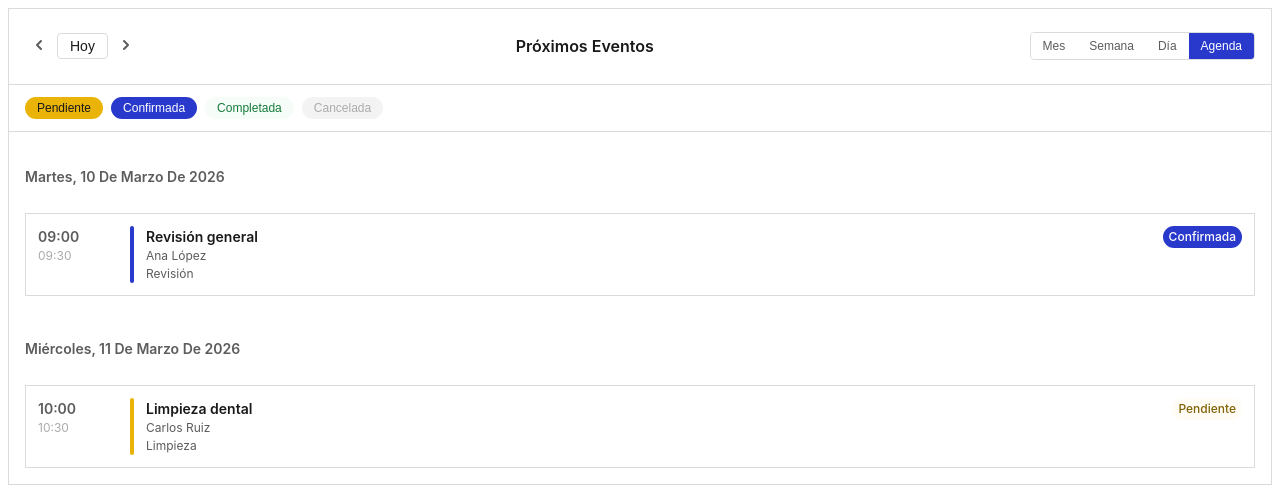
Test: Calendar › AgendaView › unchecking a status hides events of that status
This screenshot has width=1280, height=502.
Expected: the text "Limpieza dental" is shown, [146, 400, 252, 416]
Click the checkbox labelled "Pendiente" at (64, 108), box [25, 96, 103, 118]
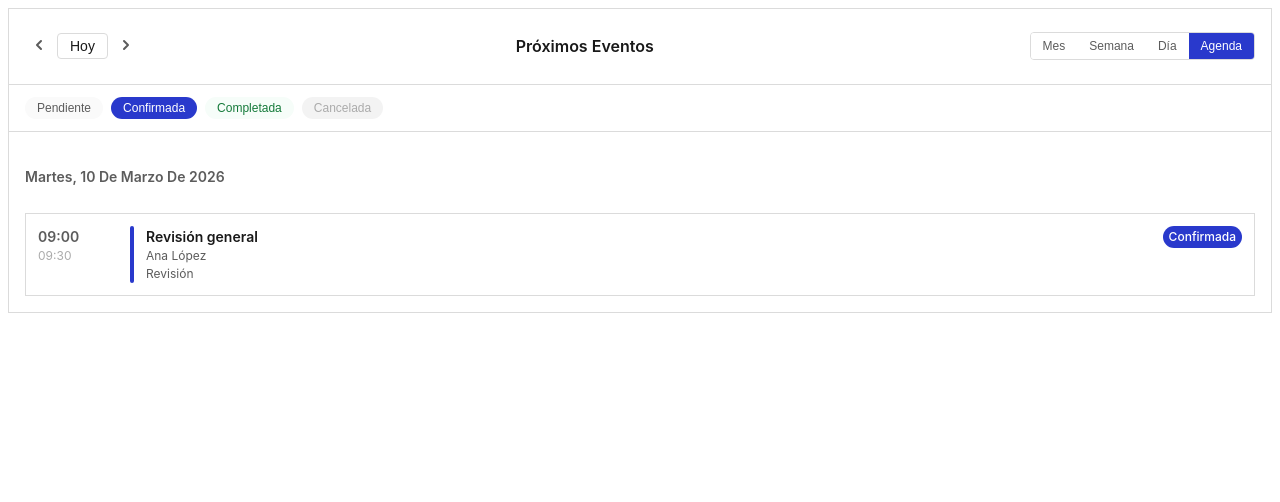
Result: the button "Limpieza dental" is gone
